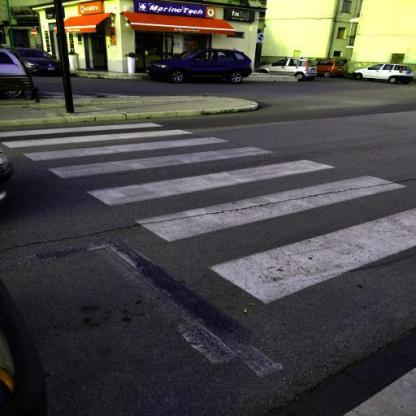crosswalk: (71, 156, 416, 246)
